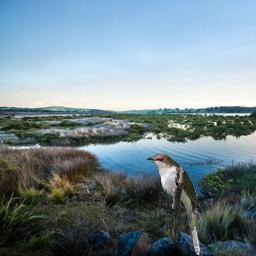Cuckoo: (145, 153, 200, 256)
